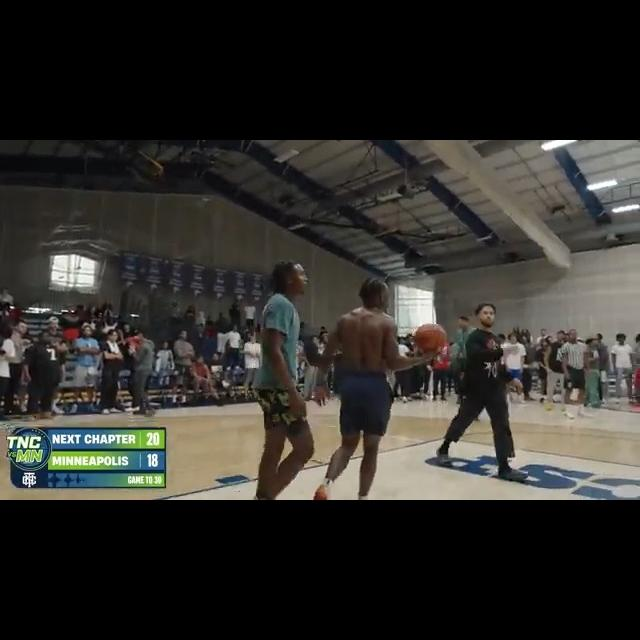basketball: (412, 321, 444, 354)
